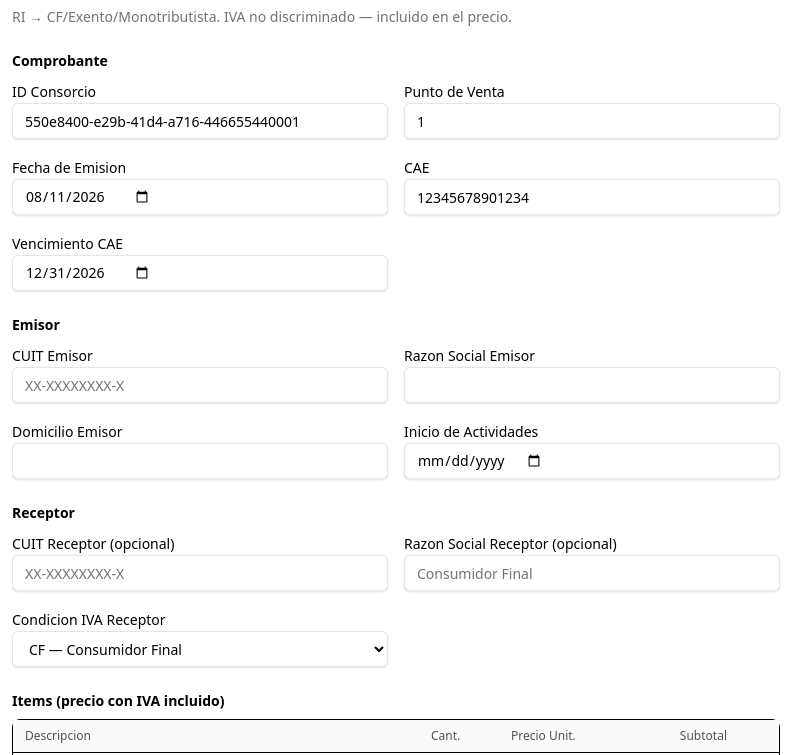
FacturaBForm › [@validation] rejects RI receptor for Factura B
Earlier steps of the test are not shown.
Type "20123456786" into the field labelled "CUIT Emisor" at point(200, 385), box [12, 367, 388, 403]
Type "Administracion Norte SA" into the field labelled "Razon Social Emisor" at point(592, 385), box [404, 367, 780, 403]
Type "Av. Corrientes 1234" into the field labelled "Domicilio Emisor" at point(200, 461), box [12, 443, 388, 479]
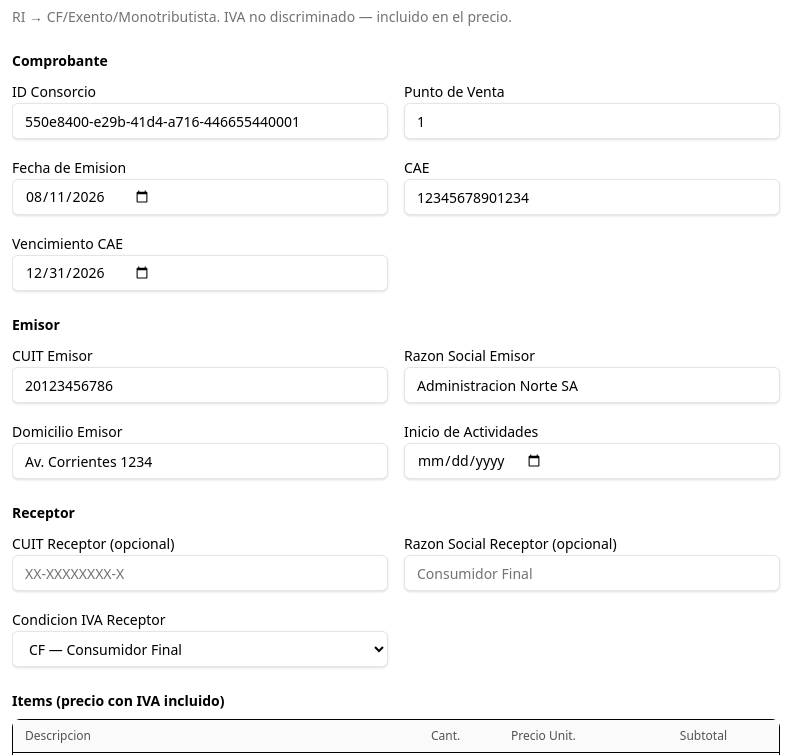
Type "2020-01-01" into the date field labelled "Inicio de Actividades" at point(592, 461), box [404, 443, 780, 479]
(page scrolled)
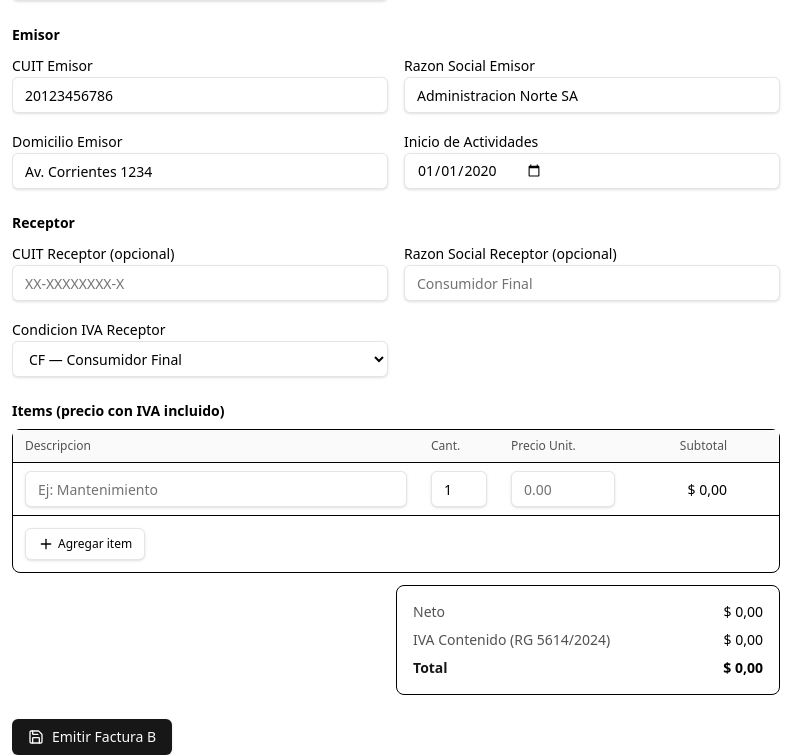
Type "Limpieza general" into the field named "Descripcion item 1" at point(216, 489), box [25, 471, 407, 507]
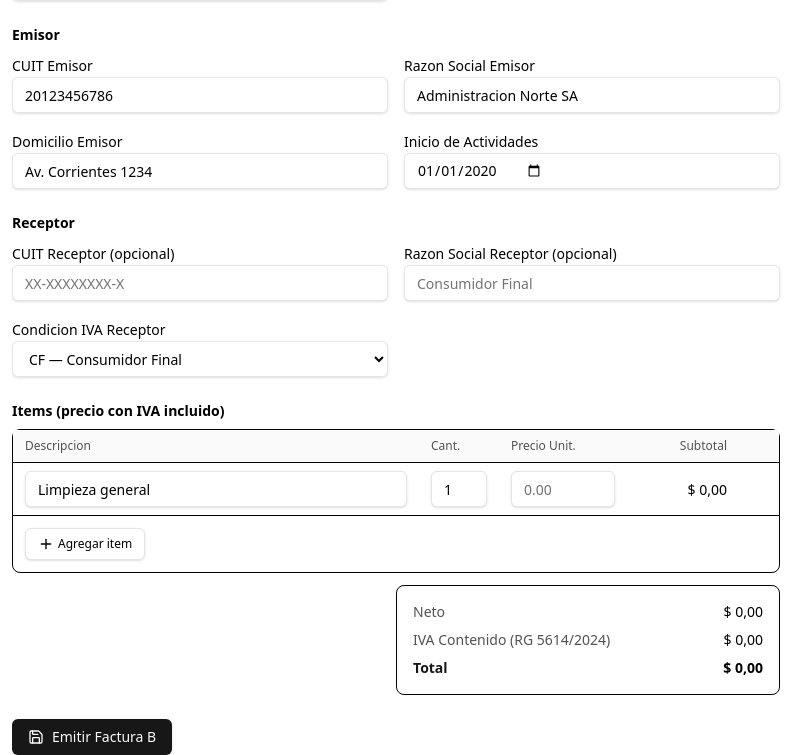
Type "3000" into the number field named "Precio unitario item 1" at point(563, 489), box [511, 471, 615, 507]
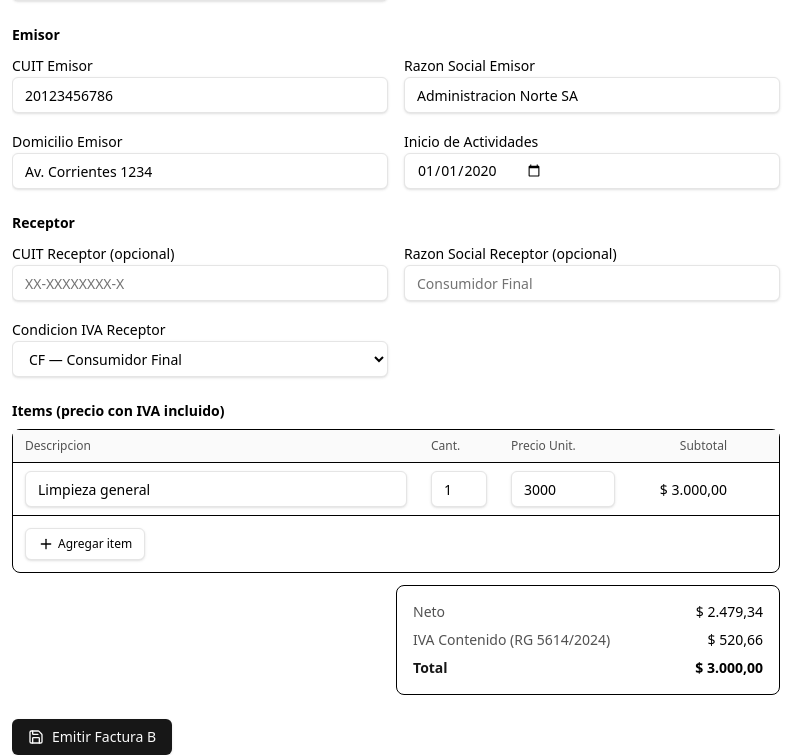
Select "RI — Responsable Inscripto" in the dropdown labelled "Condicion IVA Receptor" at point(200, 359), box [12, 341, 388, 377]
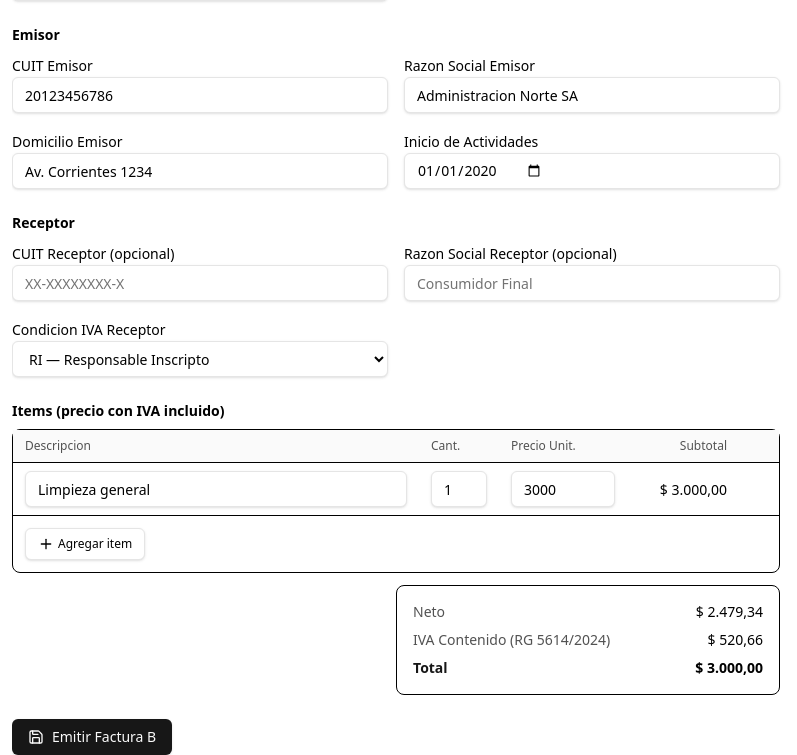
Click the button "Emitir Factura B" at point(92, 737), box [12, 719, 172, 754]
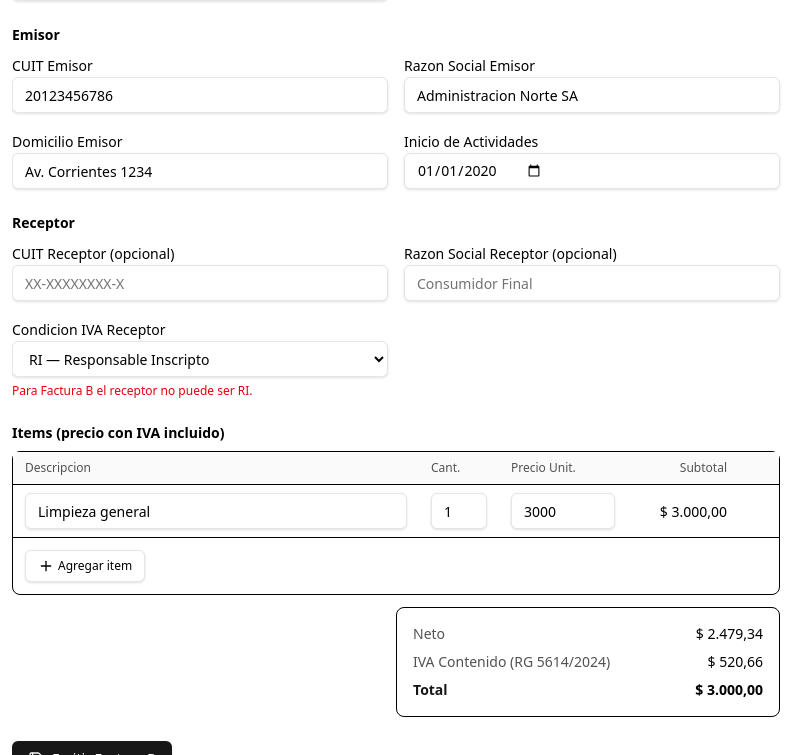
Result: the text "Para Factura B el receptor no puede ser RI." is shown at [12, 382, 252, 399]
